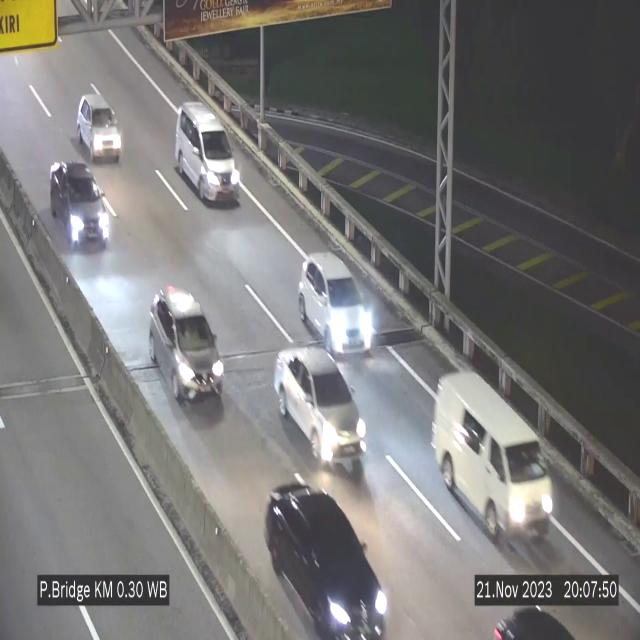Car: (433, 371, 555, 553), (266, 481, 394, 640), (274, 349, 366, 471), (149, 286, 224, 406), (298, 253, 375, 357), (175, 102, 241, 202), (50, 160, 110, 246), (77, 94, 121, 160)
